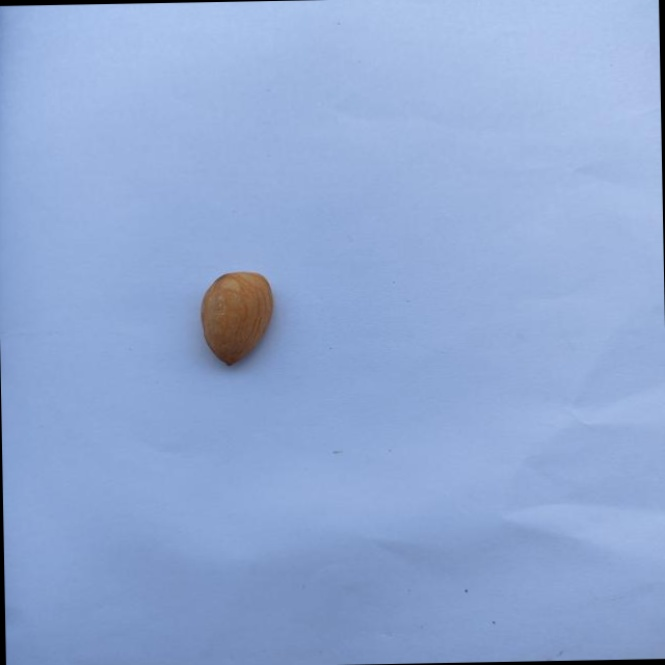grade2: (197, 268, 282, 369)
